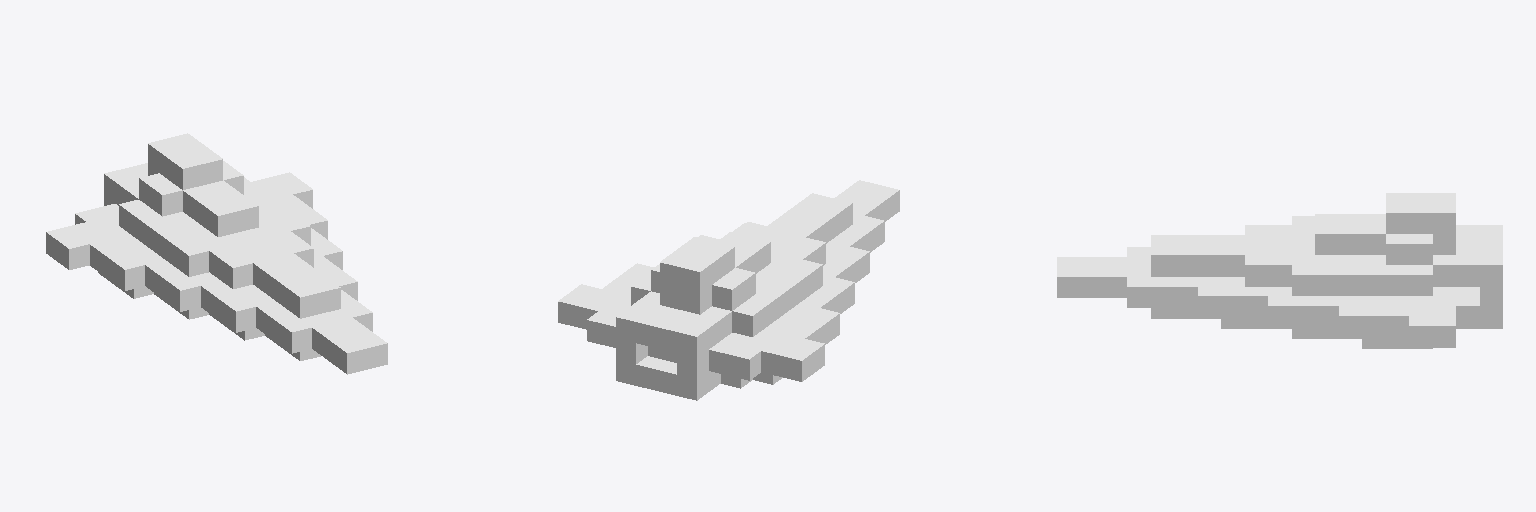
Rendered from Purple.obj.
3 renders of one model, left to right at view 1: azimuth 30°, elevation 25°; view 2: azimuth 150°, elevation 25°; view 3: azimuth 270°, elevation 25°, orthographic.
Parts seen in each view (by area): view 1: Purple; view 2: Purple; view 3: Purple.
Boxes of the visible parts, x1,y1,x2,y2 form: Purple: [46, 133, 387, 374]; Purple: [558, 180, 899, 400]; Purple: [1057, 193, 1502, 348].
Size of the model in its own units: 12 by 5 by 19.